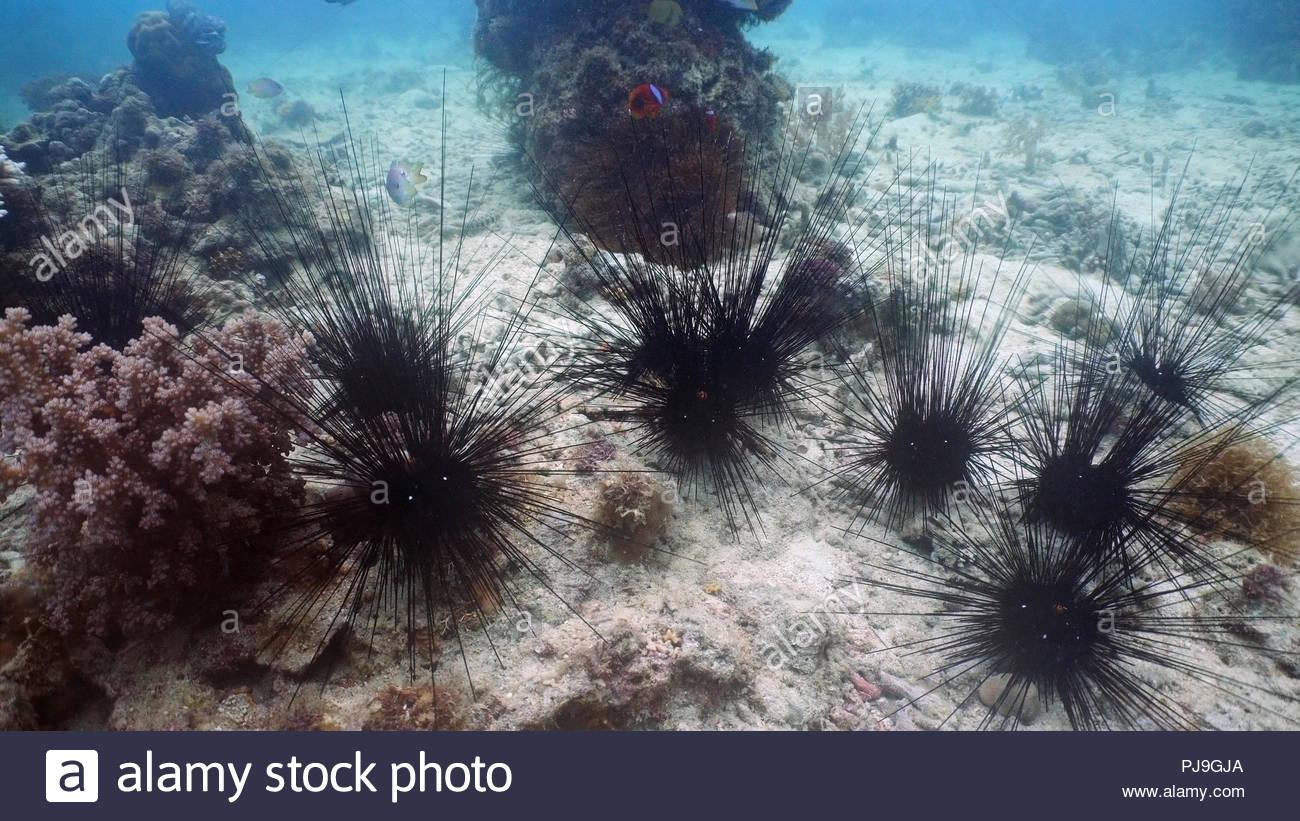urchin: (131, 143, 711, 719), (486, 86, 919, 550), (794, 388, 1300, 732), (977, 173, 1300, 609), (781, 146, 1051, 550), (228, 64, 518, 430), (1013, 124, 1300, 429), (0, 122, 228, 356)
